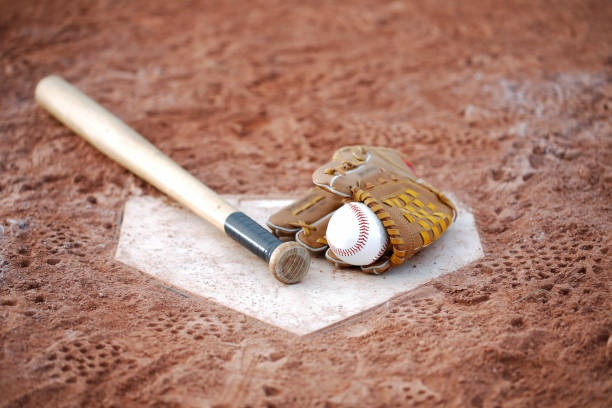bita: (25, 73, 305, 279)
